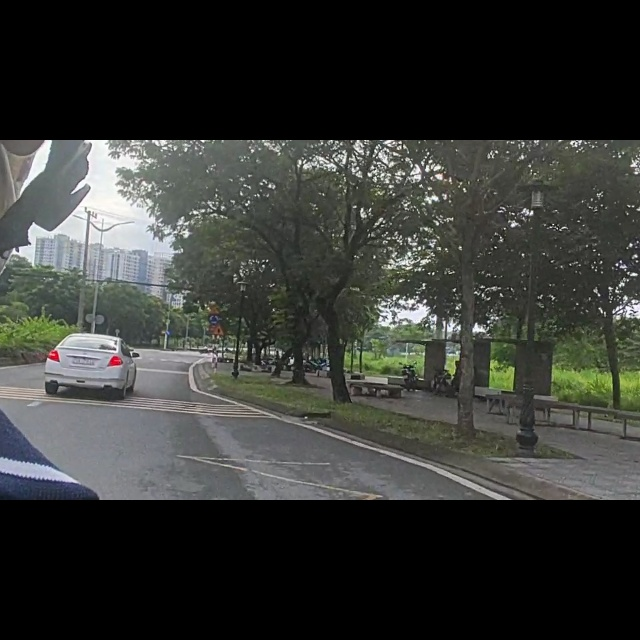bien_hieu_lenh: (212, 329, 225, 348), (209, 311, 219, 327), (160, 334, 166, 346), (166, 338, 171, 348)
